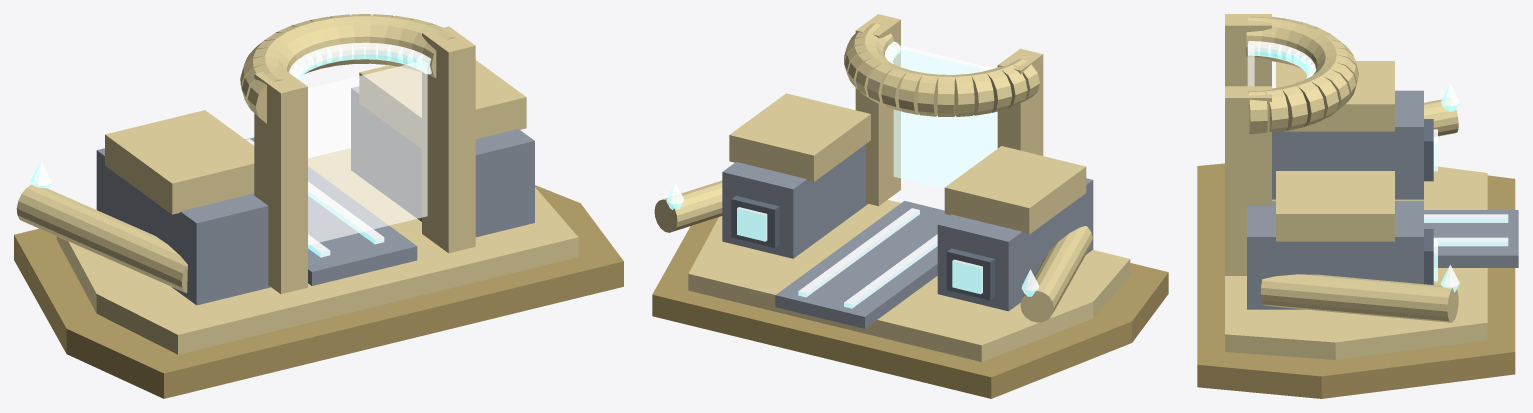
The model's file is helias_stargate.glb.
3 views of the same model, side by side, from view 1: azimuth 30°, elevation 25°; view 2: azimuth 150°, elevation 25°; view 3: azimuth 270°, elevation 25° (orthographic). The views are drawn at different scales.
Parts seen in each view (by area): view 1: foundation_000, deck_001, warp_aperture_049, hangar_block_005, hangar_roof_006, hangar_block_009, gate_pylon_014, gate_pylon_013, swept_arm_050, hangar_roof_010, runway_002, launch_channel_004 (+8 smaller); view 2: foundation_000, deck_001, runway_002, hangar_block_009, hangar_roof_006, hangar_roof_010, warp_aperture_049, hangar_block_005, gate_pylon_014, swept_arm_050, gate_pylon_013, swept_arm_052 (+18 smaller); view 3: foundation_000, deck_001, hangar_block_009, hangar_roof_010, hangar_block_005, swept_arm_052, gate_pylon_014, hangar_roof_006, runway_002, gate_pylon_013, swept_arm_050, stargate_arch_017 (+22 smaller).
Part boxes in pixels (x1,y1,x2,y2): foundation_000: (14,185,623,398); deck_001: (56,148,578,354); warp_aperture_049: (308,61,427,245); hangar_block_005: (96,148,270,305); hangar_roof_006: (105,110,254,214); hangar_block_009: (351,86,534,237); gate_pylon_014: (422,26,475,253); gate_pylon_013: (254,67,307,294); swept_arm_050: (16,184,187,293); hangar_roof_010: (359,60,526,148); runway_002: (245,137,417,285); launch_channel_004: (246,139,384,244); foundation_000: (652,217,1168,398); deck_001: (688,200,1130,361); runway_002: (775,201,949,328); hangar_block_009: (722,144,868,258); hangar_roof_006: (944,146,1086,234); hangar_roof_010: (729,93,870,181); warp_aperture_049: (893,45,997,188); hangar_block_005: (937,178,1093,311); gate_pylon_014: (855,14,900,206); swept_arm_050: (1020,226,1092,322); gate_pylon_013: (997,48,1043,155); swept_arm_052: (654,180,722,232); foundation_000: (1197,163,1515,398); deck_001: (1225,166,1487,359); hangar_block_009: (1247,200,1423,309); hangar_roof_010: (1276,171,1394,241); hangar_block_005: (1272,90,1423,199); swept_arm_052: (1260,274,1458,322); gate_pylon_014: (1225,86,1271,275); hangar_roof_006: (1276,61,1394,131); runway_002: (1424,210,1518,267); gate_pylon_013: (1225,14,1271,86); swept_arm_050: (1424,99,1458,136); stargate_arch_017: (1278,84,1307,130).
Bounding box in the file's own units: 4 × 1.96 × 2.45.
